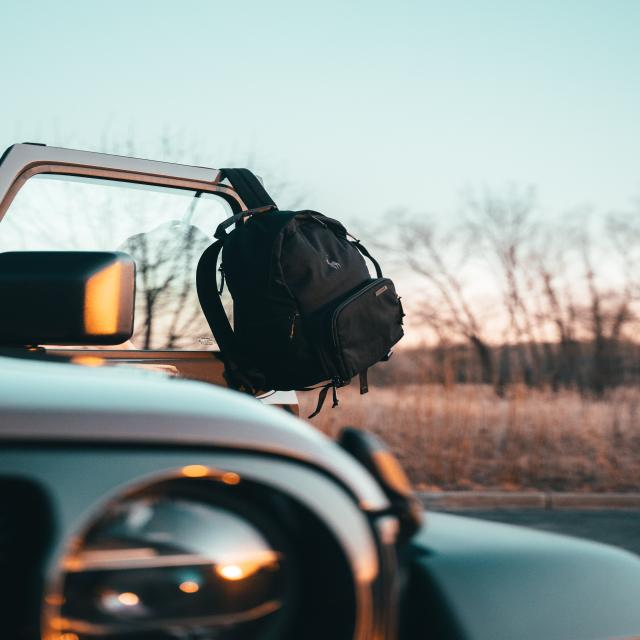backpack: (192, 168, 412, 391)
